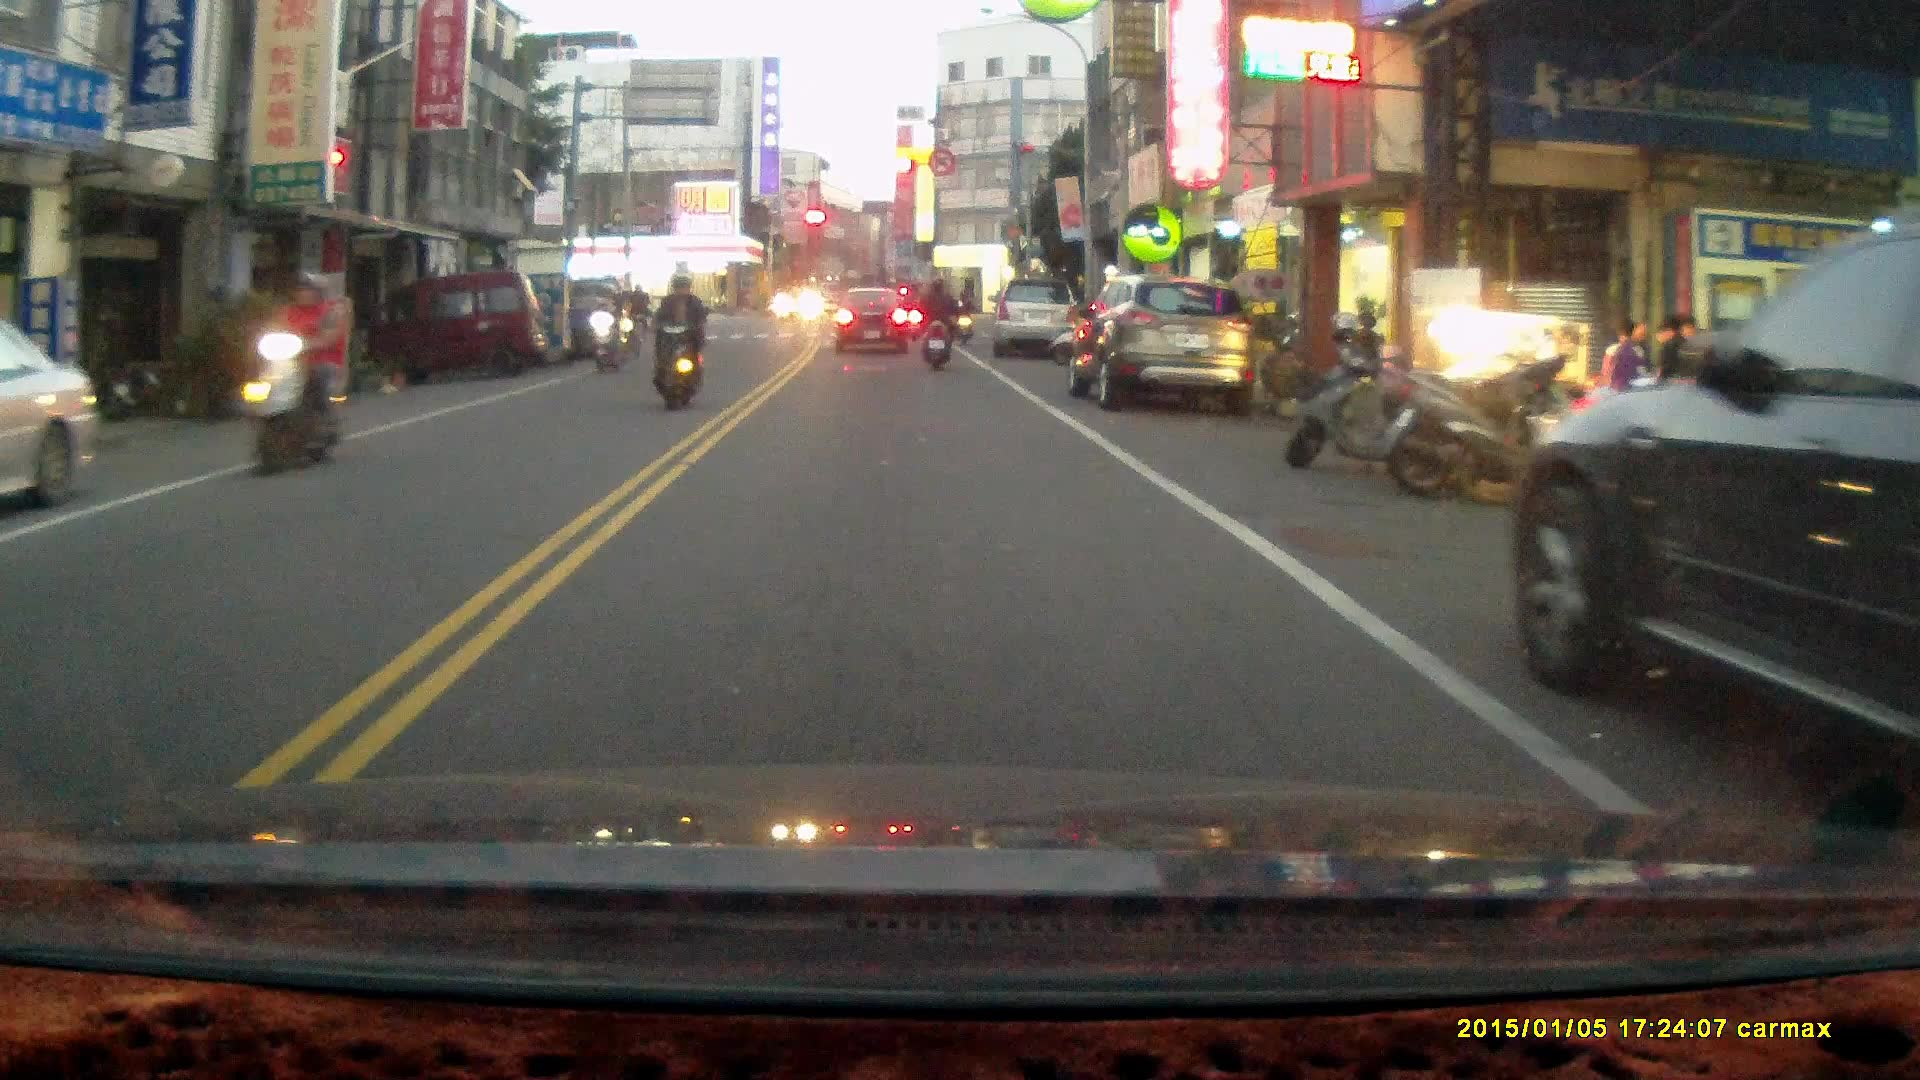pedestrian: (1649, 314, 1697, 436), (1601, 312, 1650, 433)
rider: (240, 265, 347, 480), (639, 271, 705, 410), (588, 280, 631, 376), (914, 273, 955, 373), (619, 275, 653, 356), (899, 280, 925, 340), (952, 287, 974, 345)
vehicle: (1503, 201, 1920, 803), (1068, 275, 1257, 412), (366, 271, 551, 382), (1, 315, 97, 522), (998, 275, 1080, 357)
